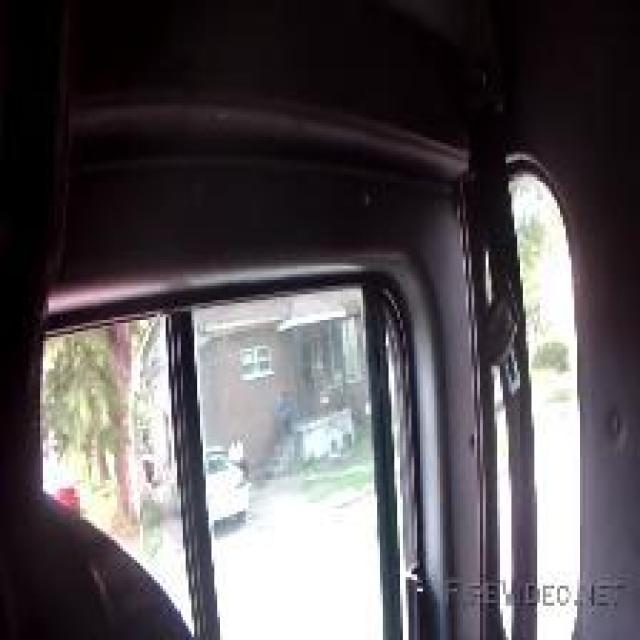other: (512, 176, 596, 358), (37, 447, 92, 513)
